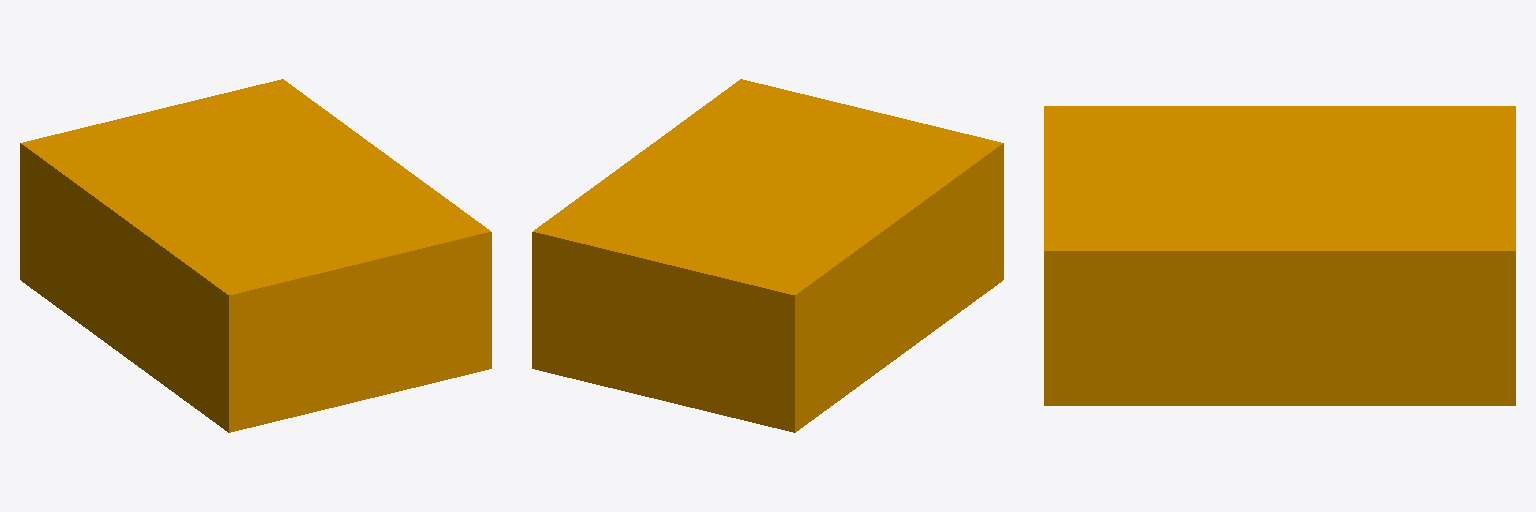
URDF robot description (2x2):
<?xml version='1.0' encoding='UTF-8'?>
<robot name="2x2">
  <link name="base_link">
    <inertial>
      <origin xyz="0.0 0.0 0.0" rpy="0.0 0.0 0.0"/>
      <mass value="0.01"/>
      <inertia ixx="0.1" ixy="0.0" ixz="0.0" iyy="0.1" iyz="0.0" izz="0.1"/>
    </inertial>
    <visual>
      <geometry>
        <box size="0.024 0.033 0.012"/>
      </geometry>
      <material name=""/>
      <origin xyz="0.0 0.0 0.0" rpy="0.0 0.0 0.0"/>
    </visual>
    <collision>
      <geometry>
        <box size="0.024 0.033 0.012"/>
      </geometry>
      <origin xyz="0.0 0.0 0.0" rpy="0.0 0.0 0.0"/>
    </collision>
  </link>
  <material name="">
    <color rgba="1. 1. 1. 1."/>
  </material>
  <contact>
    <lateral_friction value="1.0"/>
    <rolling_friction value="0.0"/>
    <contact_cfm value="0.0"/>
    <contact_erp value="1.0"/>
  </contact>
</robot>

--- Facts derived from the render (not from the file) ---
The picture shows the robot from 3 angles, left to right: view 1: azimuth 30°, elevation 25°; view 2: azimuth 150°, elevation 25°; view 3: azimuth 270°, elevation 25°; orthographic projection.
Model 2x2 with 1 links and 0 joints (none), rooted at base_link, posed all joints at 0.
Visible links, largest first — view 1: base_link; view 2: base_link; view 3: base_link.
Boxes of the visible links, x1,y1,x2,y2 form: base_link: (20,79,491,432); base_link: (532,79,1003,432); base_link: (1044,106,1515,405).
Size in the robot's own frame: 0.024 by 0.033 by 0.012 metres.
Geometry: primitives only (box / cylinder / sphere), no mesh files.